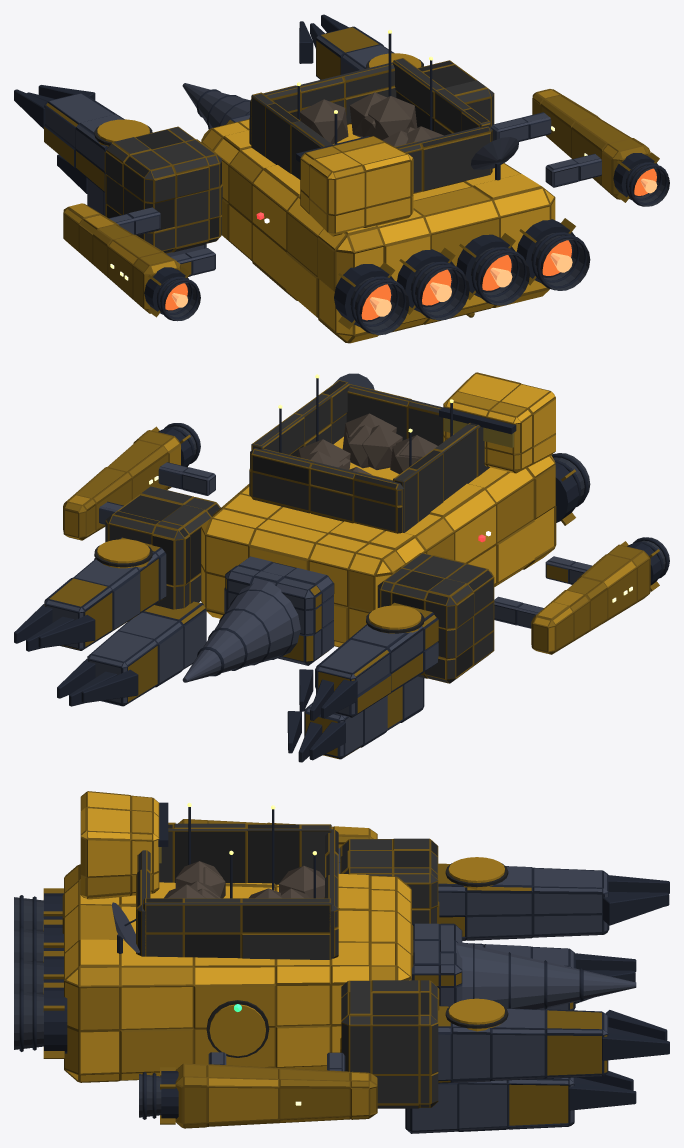
Rendered from excavator.glb.
The picture shows the model from 3 angles, top to bottom: view 1: azimuth 30°, elevation 25°; view 2: azimuth 150°, elevation 25°; view 3: azimuth 270°, elevation 25°; orthographic projection. The views are drawn at different scales.
Visible parts, largest first — view 1: excavator_mesh, radar_mesh; view 2: excavator_mesh; view 3: excavator_mesh, radar_mesh.
Part boxes in pixels (x1,y1,x2,y2): excavator_mesh: [14, 14, 669, 343]; radar_mesh: [471, 137, 518, 180]; excavator_mesh: [14, 372, 669, 762]; excavator_mesh: [14, 791, 669, 1133]; radar_mesh: [111, 902, 139, 953].
Bounding box in the file's own units: 15.68 × 6.76 × 16.37.
